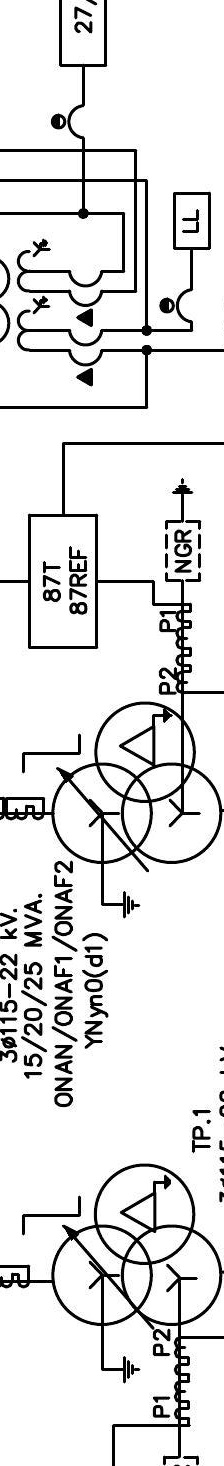11522_tx_ynyn0d1: (50, 1162, 224, 1327), (50, 700, 224, 865)
LL: (172, 191, 212, 251)
NGR_future: (165, 477, 202, 583)
